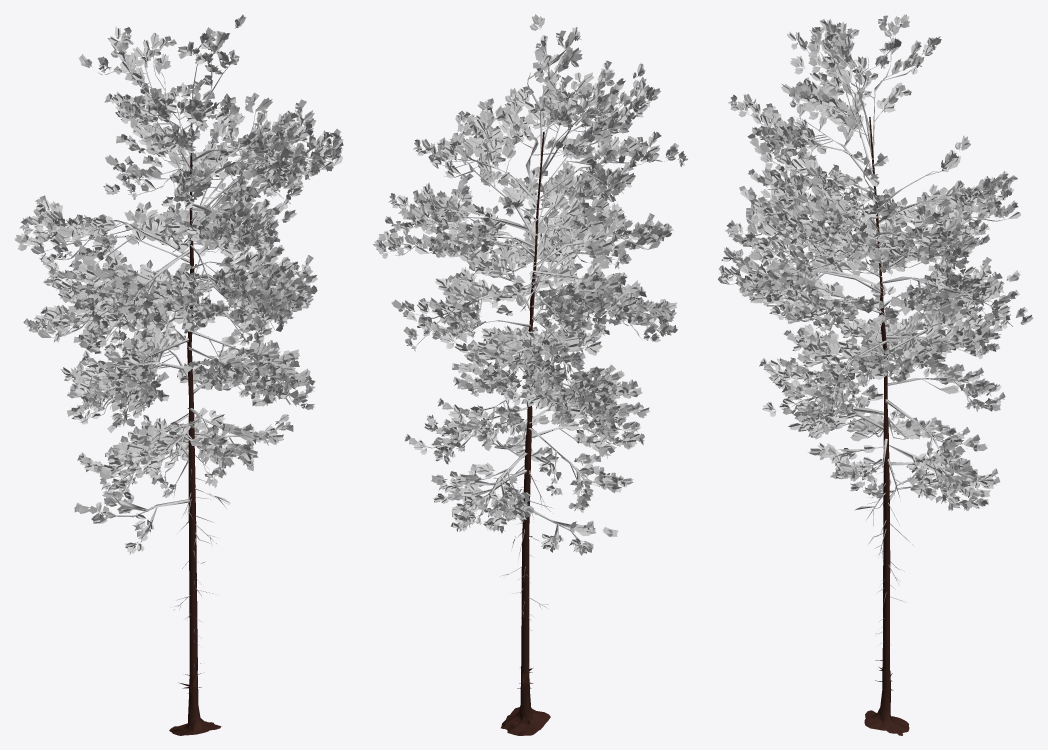
File: pine_a_lod1.obj
3 views of the same model, side by side, from view 1: azimuth 30°, elevation 25°; view 2: azimuth 150°, elevation 25°; view 3: azimuth 270°, elevation 25° (orthographic). The views are drawn at different scales.
Visible parts, largest first — view 1: pine_a_lod1; view 2: pine_a_lod1; view 3: pine_a_lod1.
Part boxes in pixels (box(x1,y1,x2,y2)): pine_a_lod1: box(14, 14, 343, 735); pine_a_lod1: box(373, 14, 687, 735); pine_a_lod1: box(718, 14, 1033, 735).
Bounding box in the file's own units: 299 × 803 × 327.
